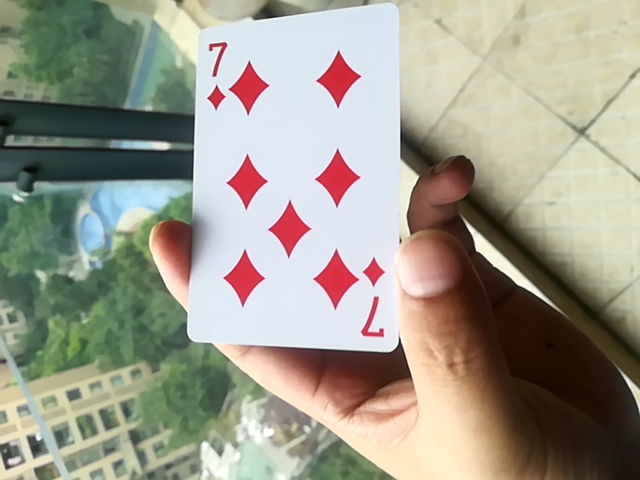fk 7: (181, 4, 411, 360)
